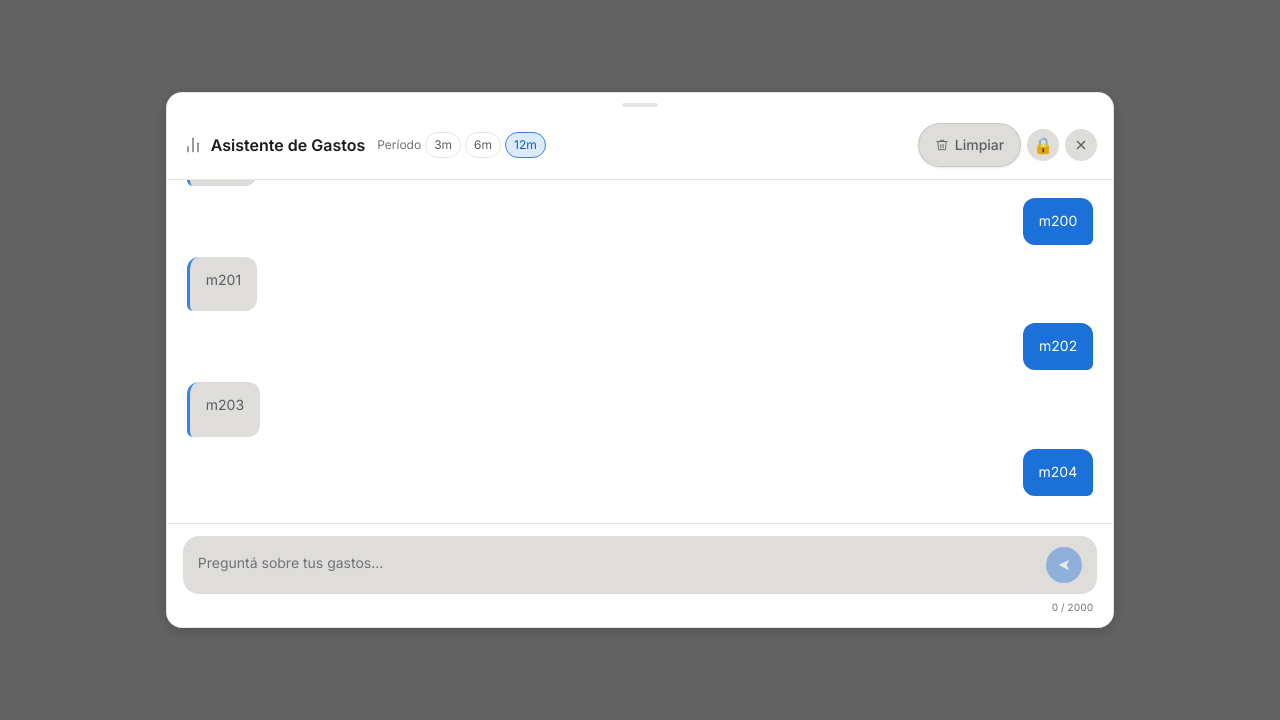
Test case: AssistantShell › el tope de 200 mensajes recorta los más viejos
(page scrolled)
Type "hola" into the text box at (618, 564), box [198,550,1038,577]
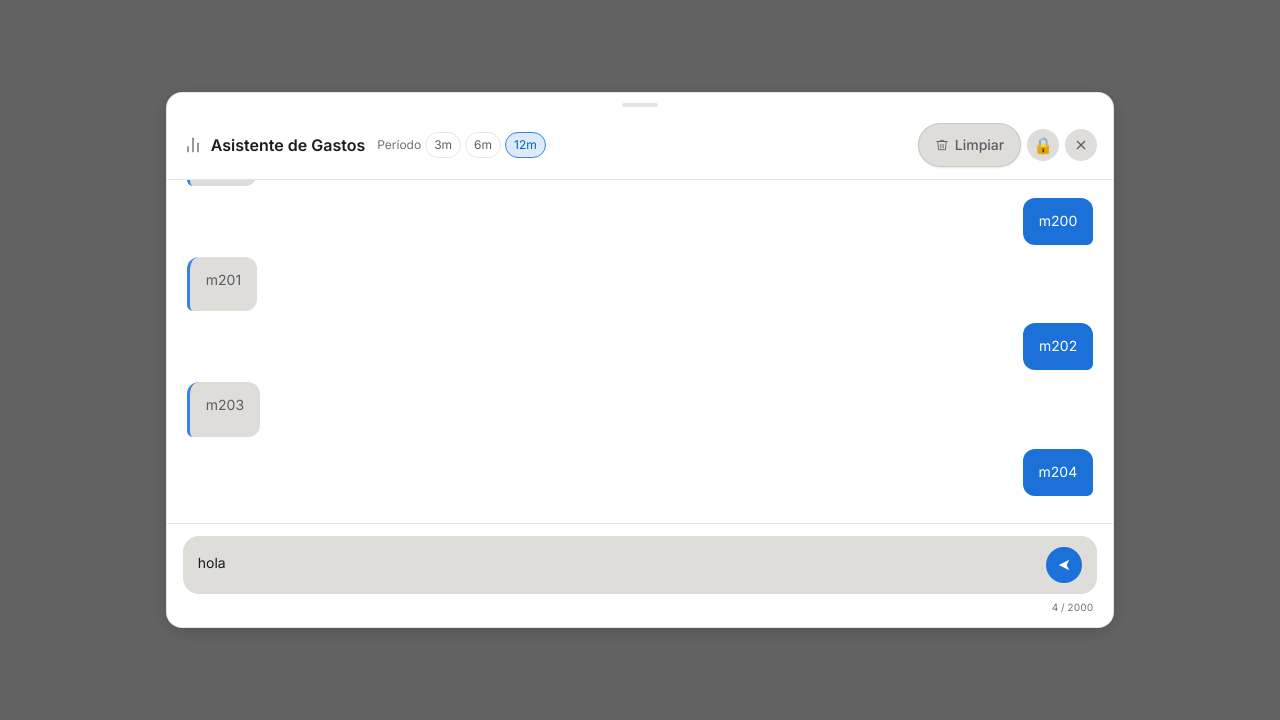
Submit the form, box [183,536,1097,594]
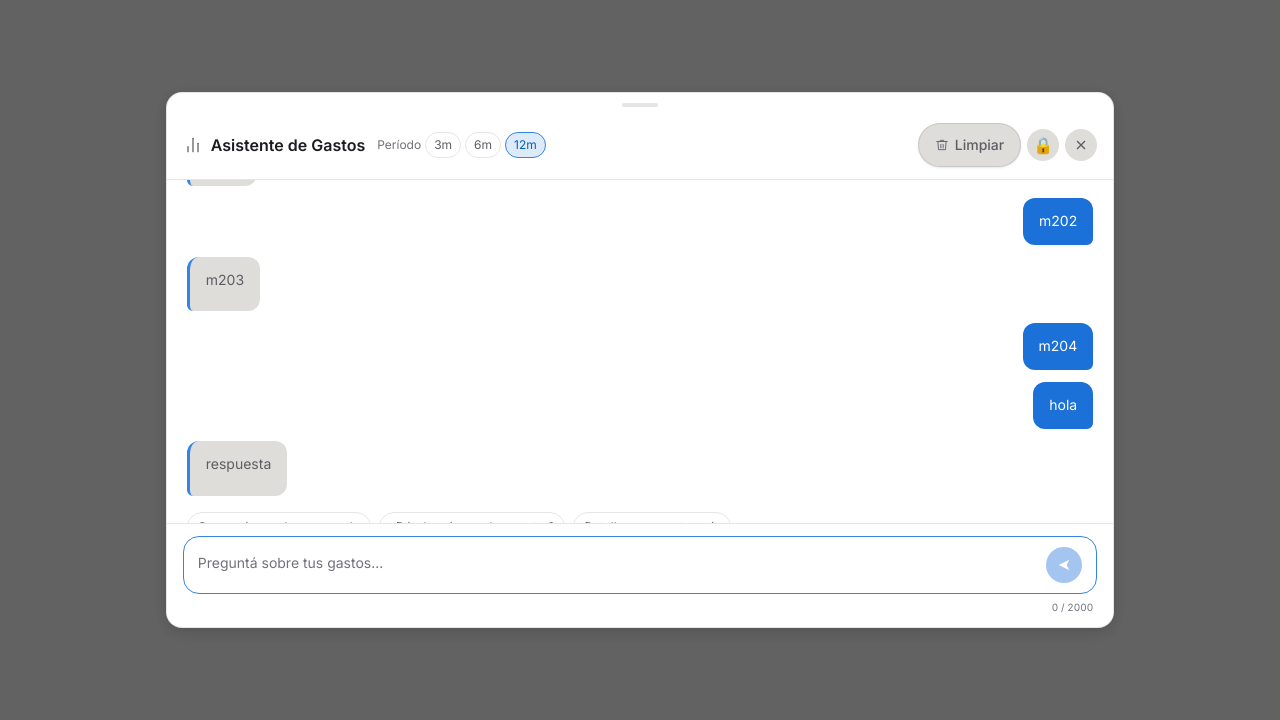
Expected: the text "respuesta" is shown, [206,453,271,476]
